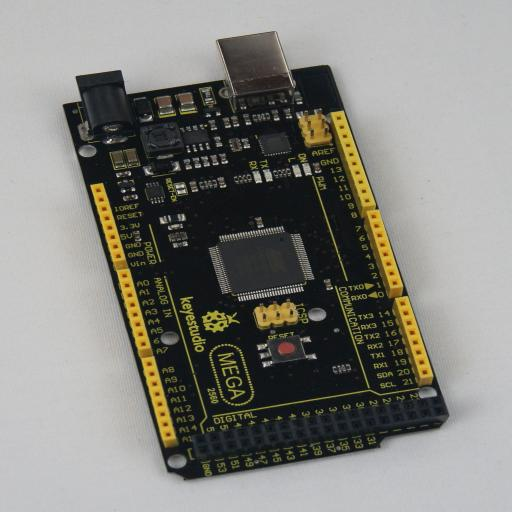Arduino Mega 2560 -Black and Yellow-: (62, 32, 449, 480)
